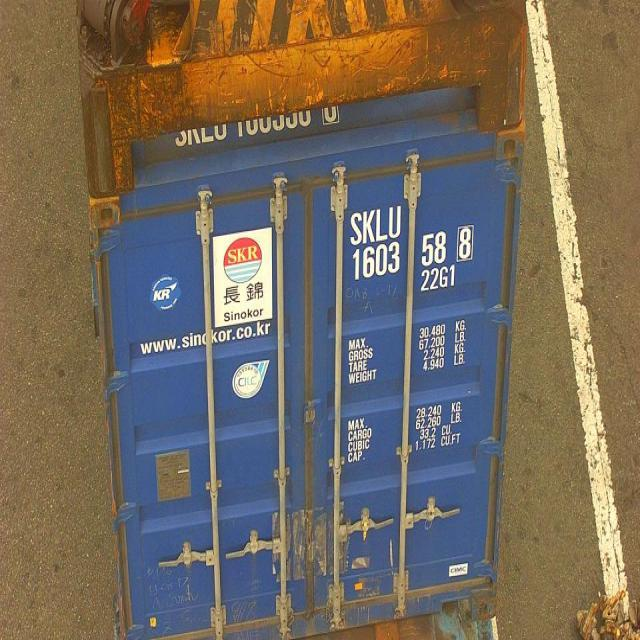ISO: (421, 266, 456, 288)
container_number: (348, 201, 476, 280)
